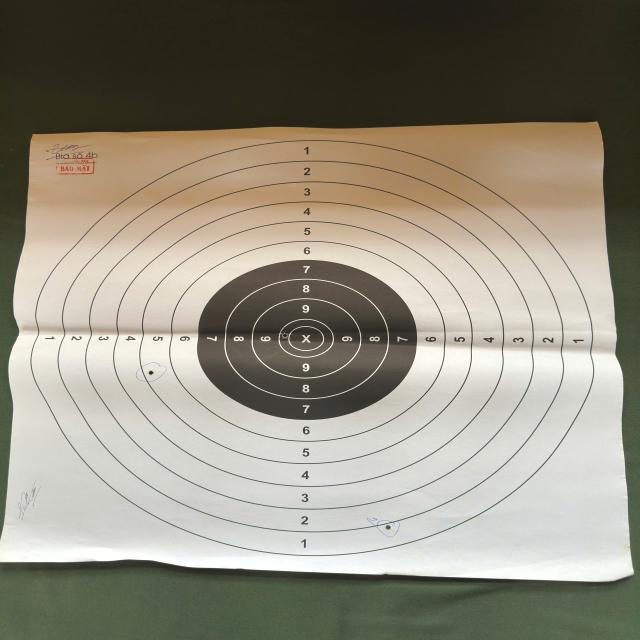bullet: (148, 370, 154, 376), (385, 524, 391, 530)
target: (1, 122, 632, 581)
